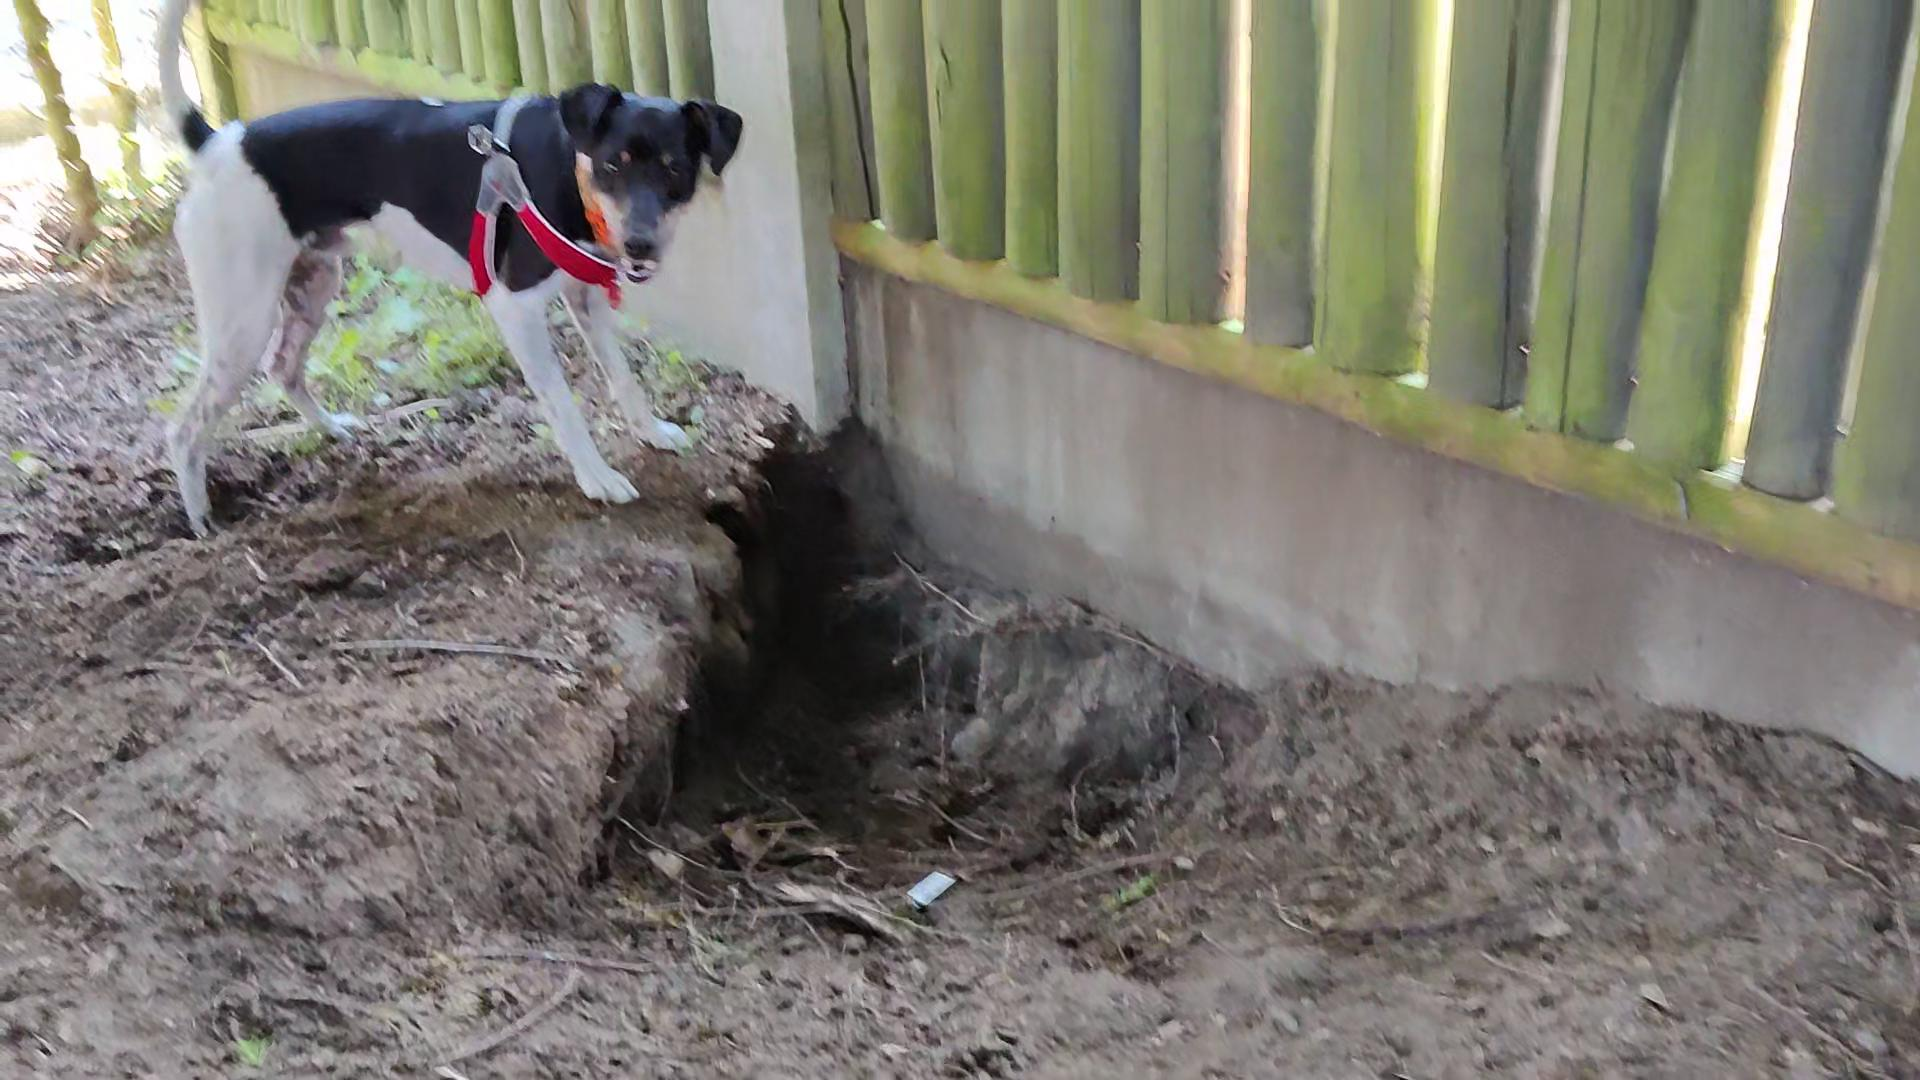Dog: (131, 0, 769, 545)
